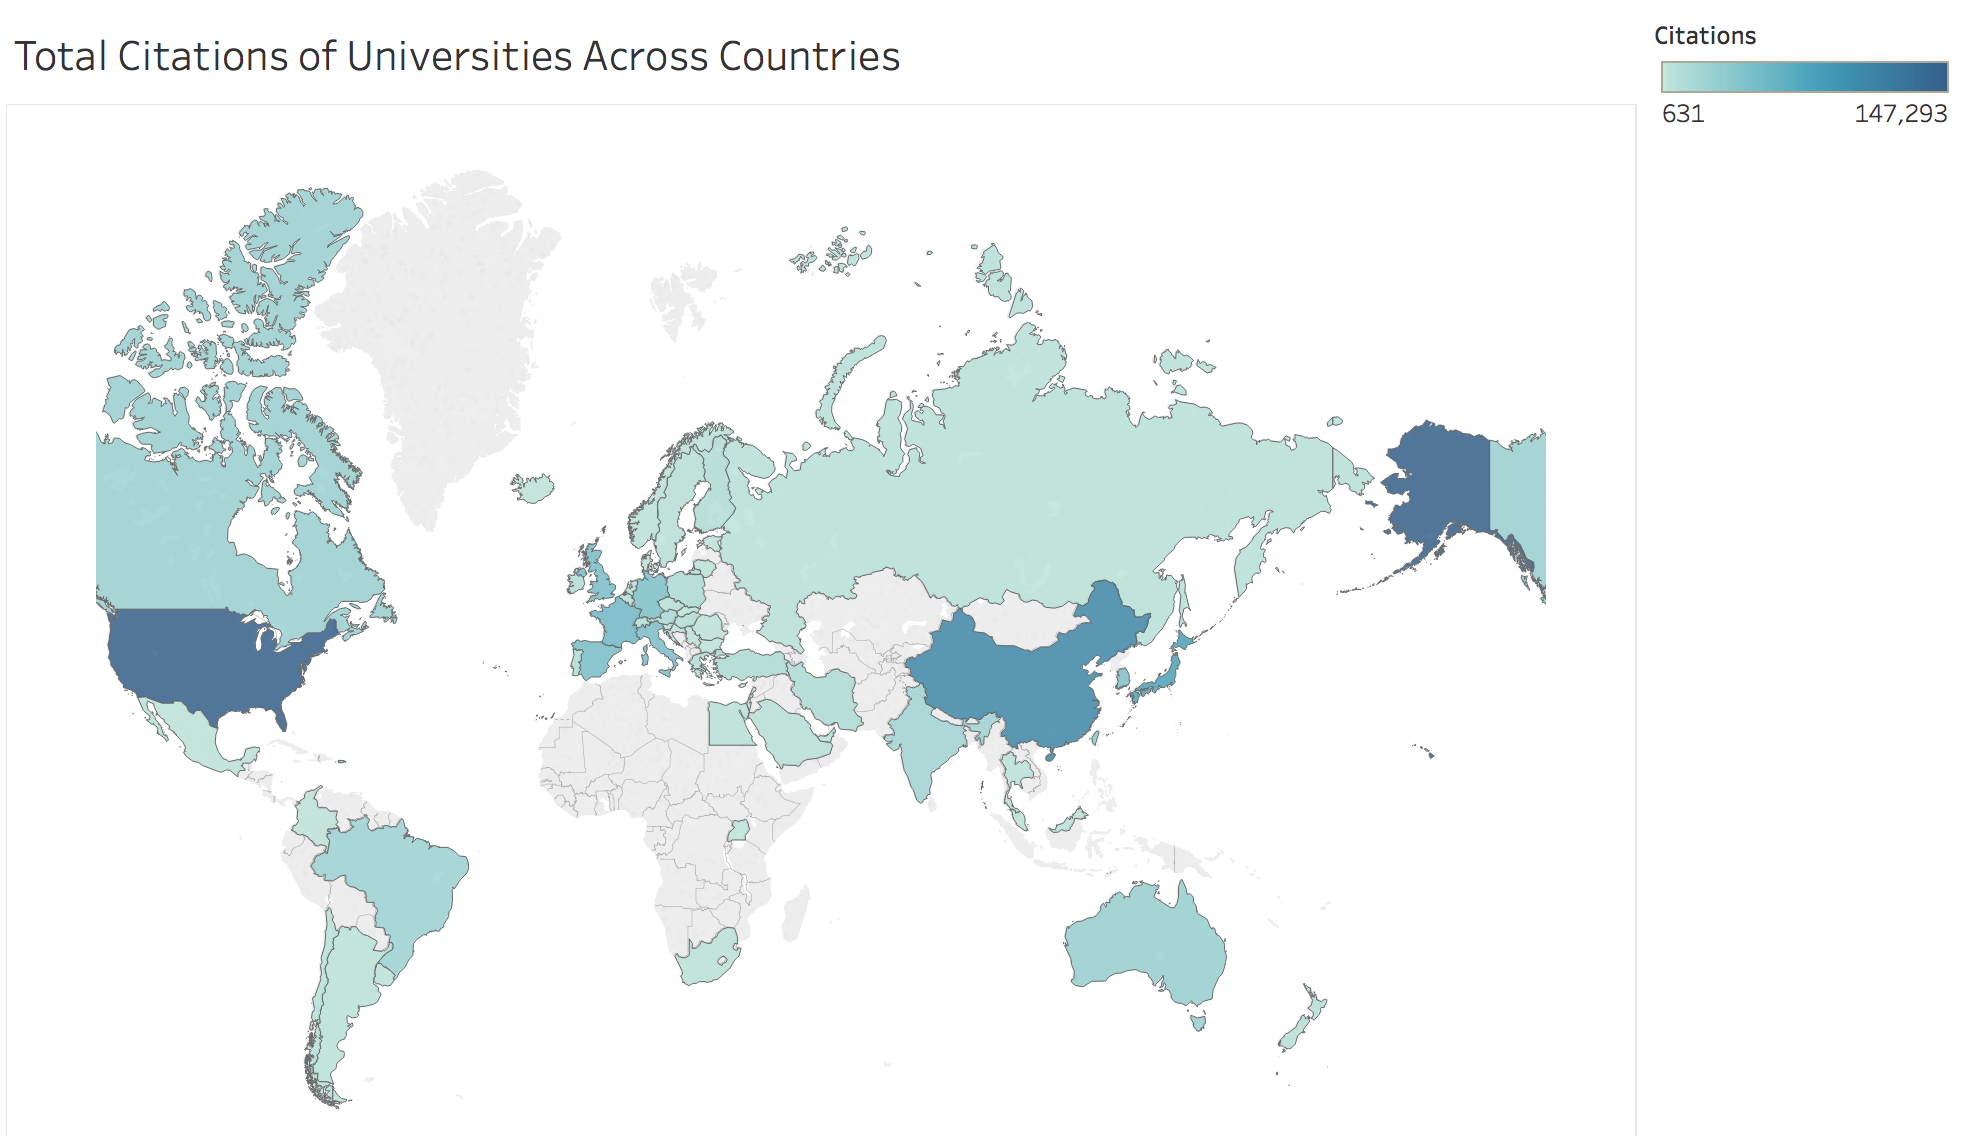

What the dashboard file says about the page in this screenshot:
{"tool":"tableau","page":{"name":"Chloropleth Map","canvas":[1000,800],"ordinal":1},"visuals":[{"type":"worksheet","title":"Sheet 1","mark":"Automatic","box":[8,8,824,784]},{"type":"legend","title":"Sheet 1","param":"[federated.01w8qy908ynll71b0xbim0vcqq2u].[sum:citations:qk]","box":[832,8,160,65]}]}

Visuals, with their boxes on the page's 1000x800 design canvas (x1, y1, x2, y2). These are canvas units, not pixel positions in the 1968x1136 screenshot, which may show the page scaled, cropped or inside an application window:
"Sheet 1" worksheet: box(8, 8, 832, 792)
"Sheet 1" legend: box(832, 8, 992, 73)
